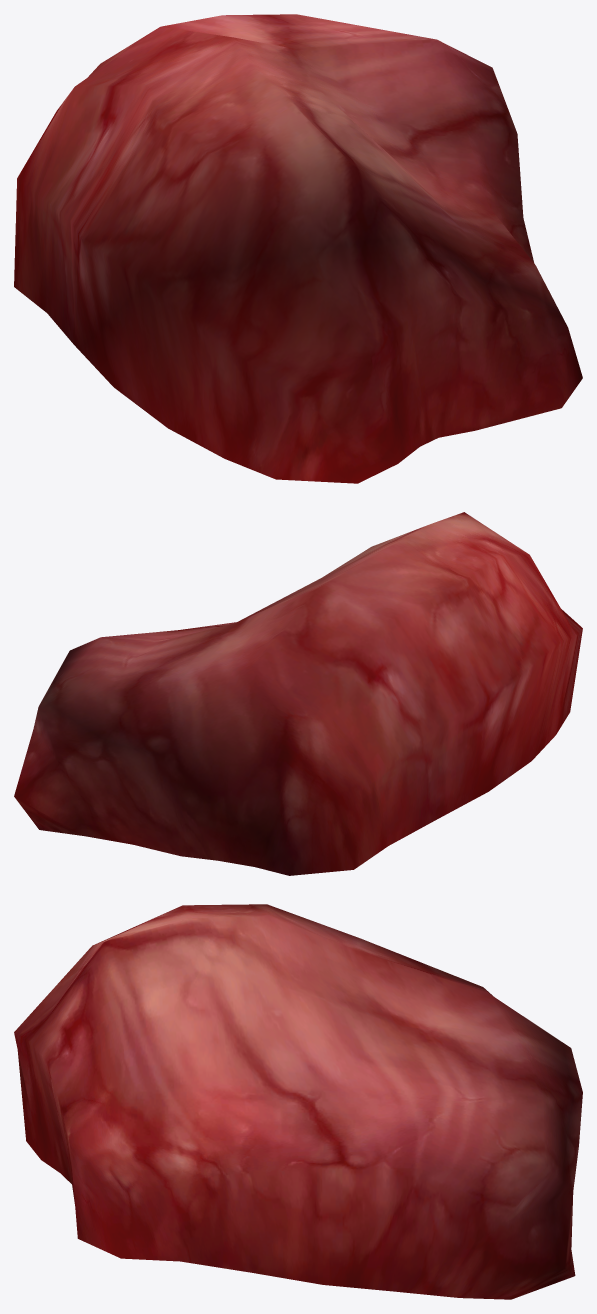
Rendered from meat_04.obj.
The picture shows the model from 3 angles, top to bottom: view 1: azimuth 30°, elevation 25°; view 2: azimuth 150°, elevation 25°; view 3: azimuth 270°, elevation 25°; orthographic projection. The views are drawn at different scales.
Parts seen in each view (by area): view 1: MEAT_040; view 2: MEAT_040; view 3: MEAT_040.
Boxes of the visible parts, bbox=[...] form: MEAT_040: bbox=[14, 14, 582, 483]; MEAT_040: bbox=[14, 512, 582, 875]; MEAT_040: bbox=[14, 904, 582, 1299].
Bounding box in the file's own units: 1.02 × 0.6104 × 1.24.
Materials: 1 (1 with a texture image).
